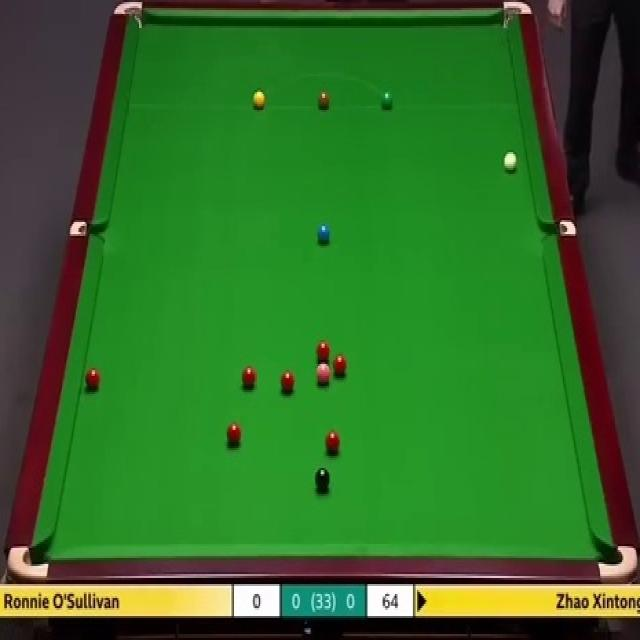black-ball: (314, 468, 331, 493)
blue-ball: (316, 226, 332, 248)
brown-ball: (317, 90, 330, 110)
green-ball: (380, 91, 394, 112)
pink-ball: (316, 364, 331, 389)
red-ball: (332, 354, 350, 378), (324, 431, 341, 455), (242, 365, 257, 390), (227, 424, 243, 446), (280, 372, 296, 394), (86, 370, 100, 392), (316, 340, 329, 363)
white-ball: (502, 149, 518, 173)
yellow-ball: (252, 89, 265, 109)
